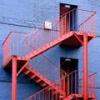stairs: (24, 64, 66, 98)
